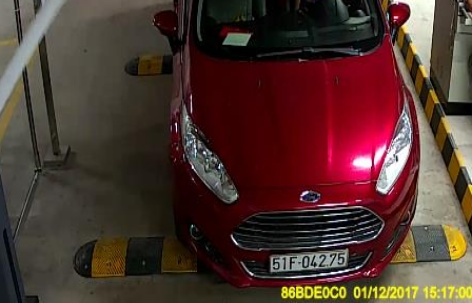plate: (269, 246, 345, 273)
